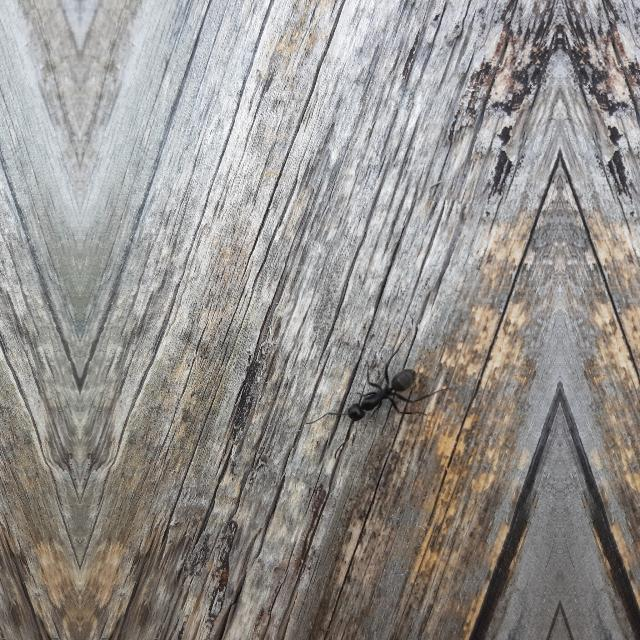Camponotus: (338, 348, 428, 439)
